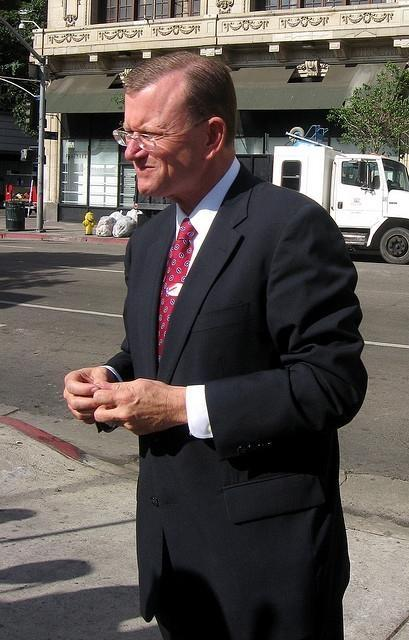truck: (131, 123, 409, 264)
